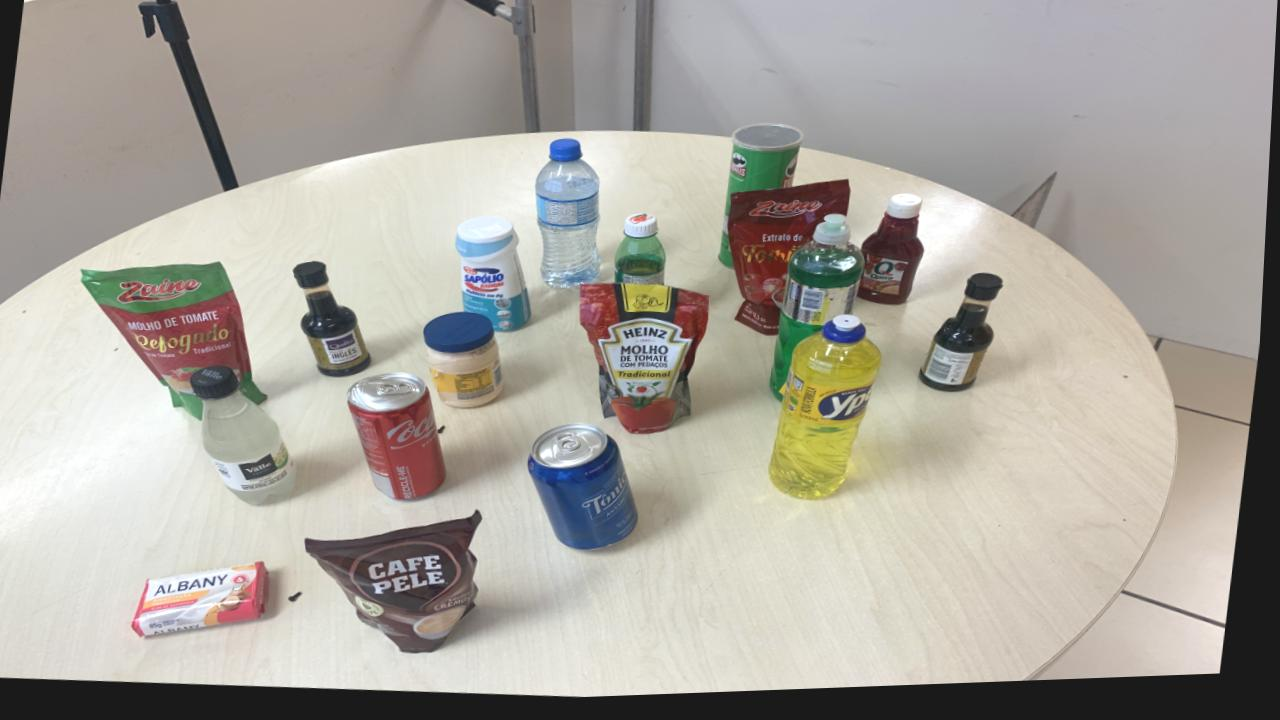Cleaner-Cleanup_Items: (458, 219, 534, 335)
Coffee-Pantry_Items: (310, 514, 488, 657)
Coke-Drinks: (351, 375, 451, 502)
Detergent-Cleanup_Items: (773, 320, 886, 504), (774, 220, 866, 406)
English_Sauce-Pantry_Items: (923, 281, 1006, 399), (295, 263, 374, 379)
Guarana-Drinks: (617, 218, 669, 290)
Ketchup-Pantry_Items: (83, 263, 269, 418), (860, 200, 927, 311)
Mayonnaise-Pantry_Items: (428, 314, 508, 411)
Pringles-Snacks: (726, 128, 805, 221), (721, 233, 736, 272)
Soap-Cleanup_Items: (139, 564, 275, 638)
Soda-Drinks: (193, 366, 301, 505)
Tomato_Sauce-Pantry_Items: (582, 287, 713, 439), (729, 186, 852, 340)
Tonic-Drinks: (533, 428, 643, 555)
Water_Bottle-Drinks: (537, 143, 604, 292)
